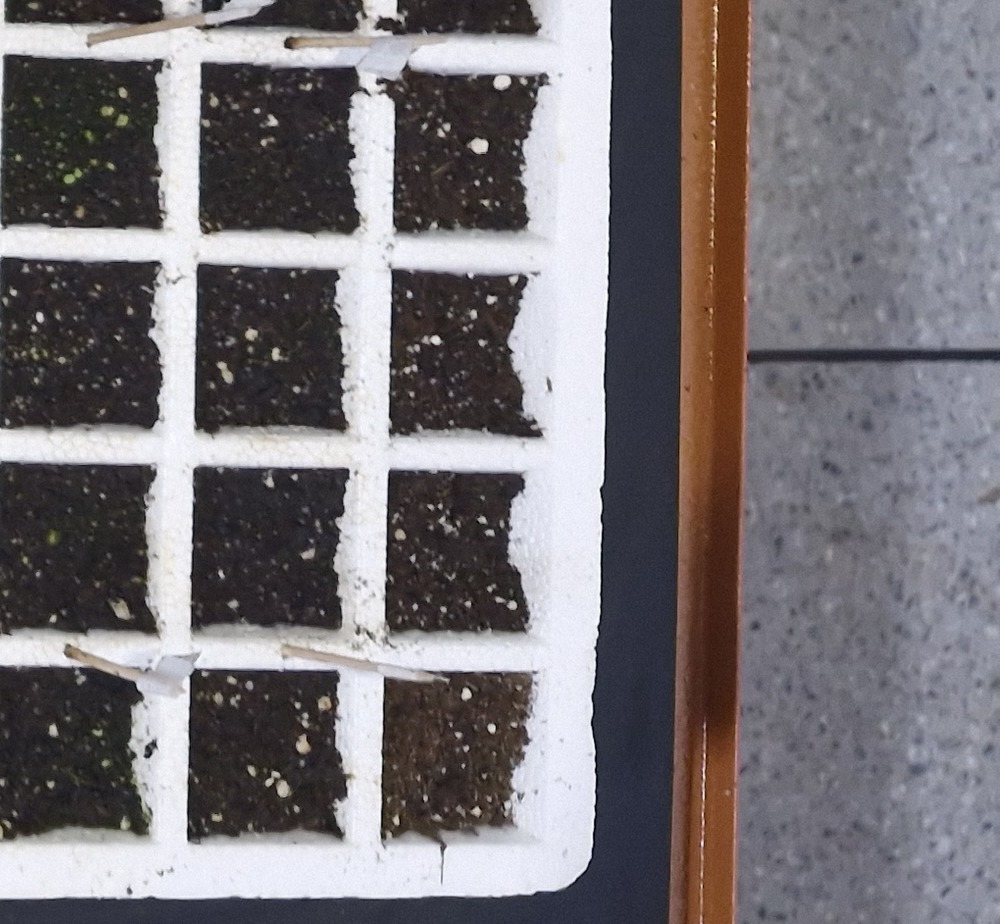Folha: (64, 175, 75, 183)
Germinacao: (64, 168, 83, 184)
